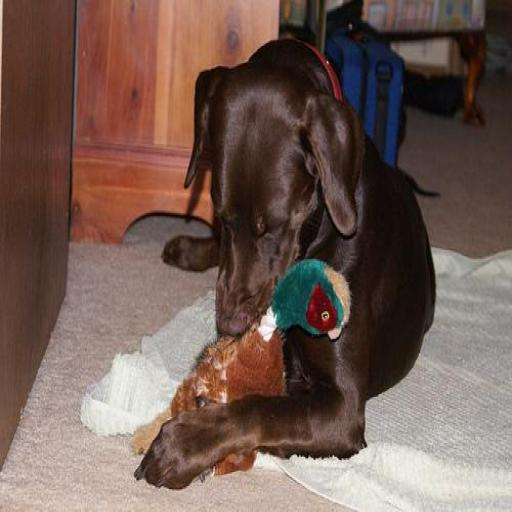dog_face: (186, 64, 356, 321)
